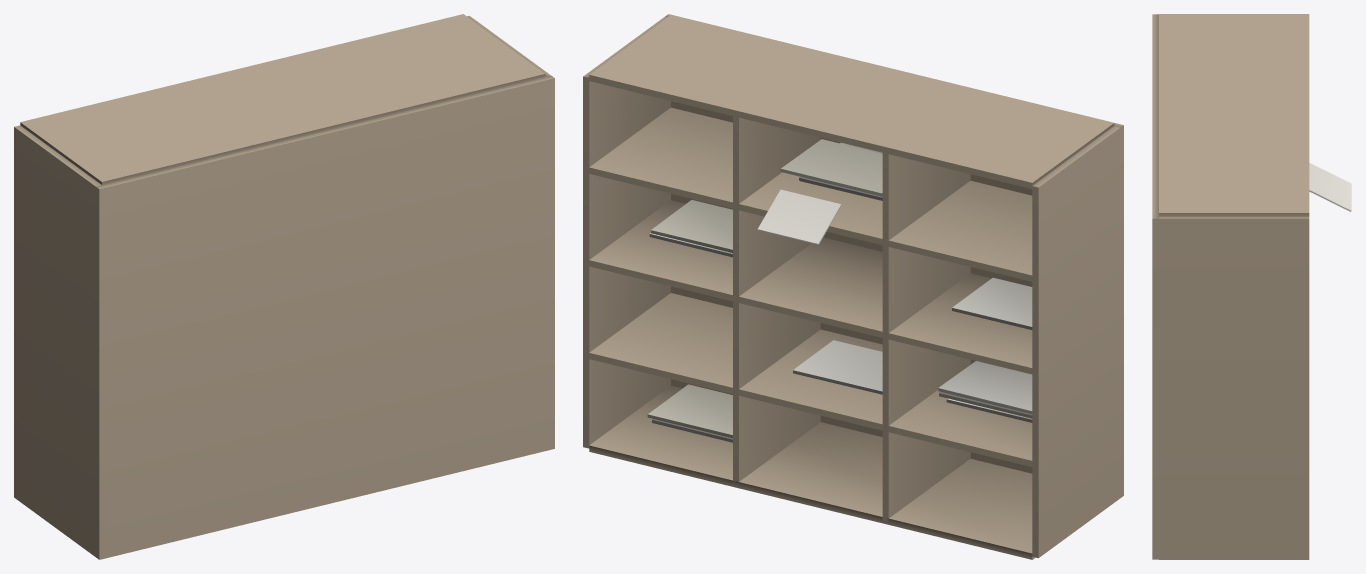
Rendered from pigeonholes.glb.
3 views of the same model, side by side, from view 1: azimuth 30°, elevation 25°; view 2: azimuth 150°, elevation 25°; view 3: azimuth 270°, elevation 25° (orthographic). The views are drawn at different scales.
Parts seen in each view (by area): view 1: static; view 2: static; view 3: static.
Boxes of the visible parts, x1=… form: static: x1=14, y1=14, x2=554, y2=559; static: x1=583, y1=14, x2=1123, y2=559; static: x1=1152, y1=14, x2=1351, y2=559.
Bounding box in the file's own units: 0.9 × 0.712 × 0.3705.
